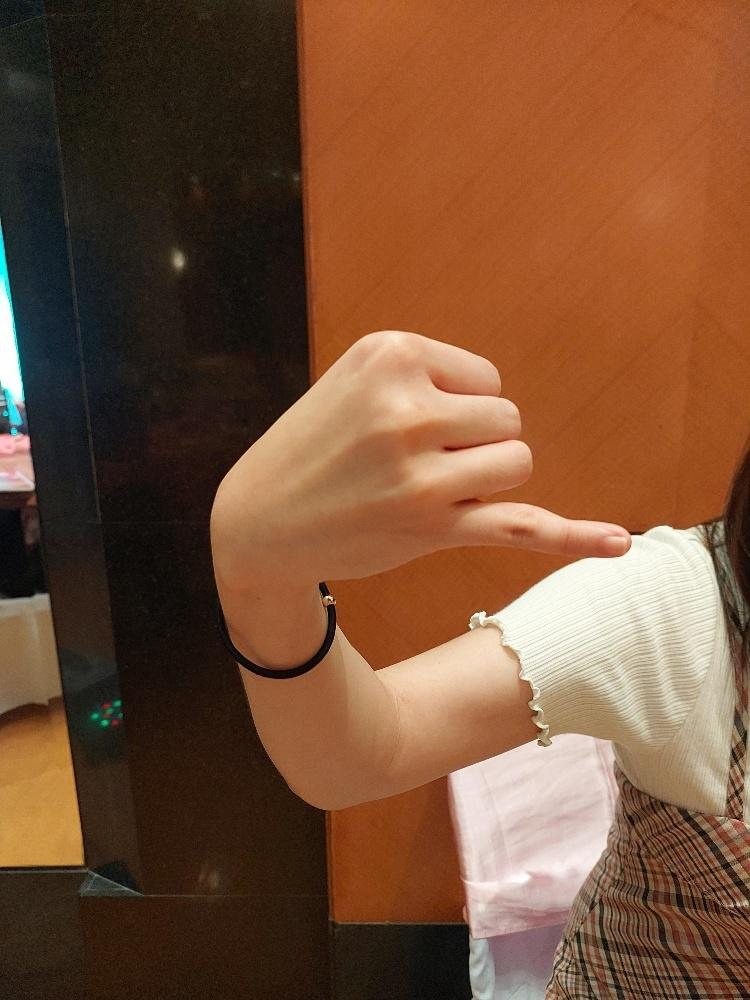j: (205, 326, 632, 583)
